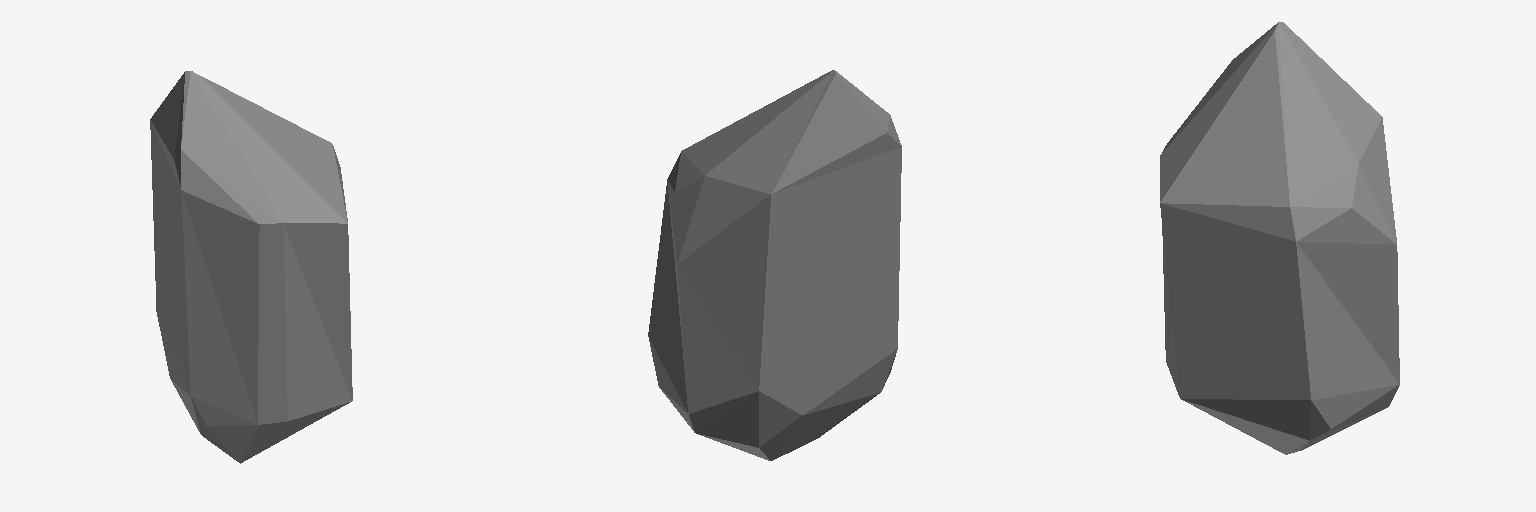
The picture shows the model from 3 angles: view 1: azimuth 30°, elevation 25°; view 2: azimuth 150°, elevation 25°; view 3: azimuth 270°, elevation 25°; orthographic projection.
Visible parts, largest first — view 1: crystal_small_003; view 2: crystal_small_003; view 3: crystal_small_003.
Boxes of the visible parts, x1,y1,x2,y2 form: crystal_small_003: [150, 71, 352, 463]; crystal_small_003: [648, 70, 901, 460]; crystal_small_003: [1160, 22, 1399, 454].
Size of the model in its own units: 2.35 by 4.36 by 2.35.